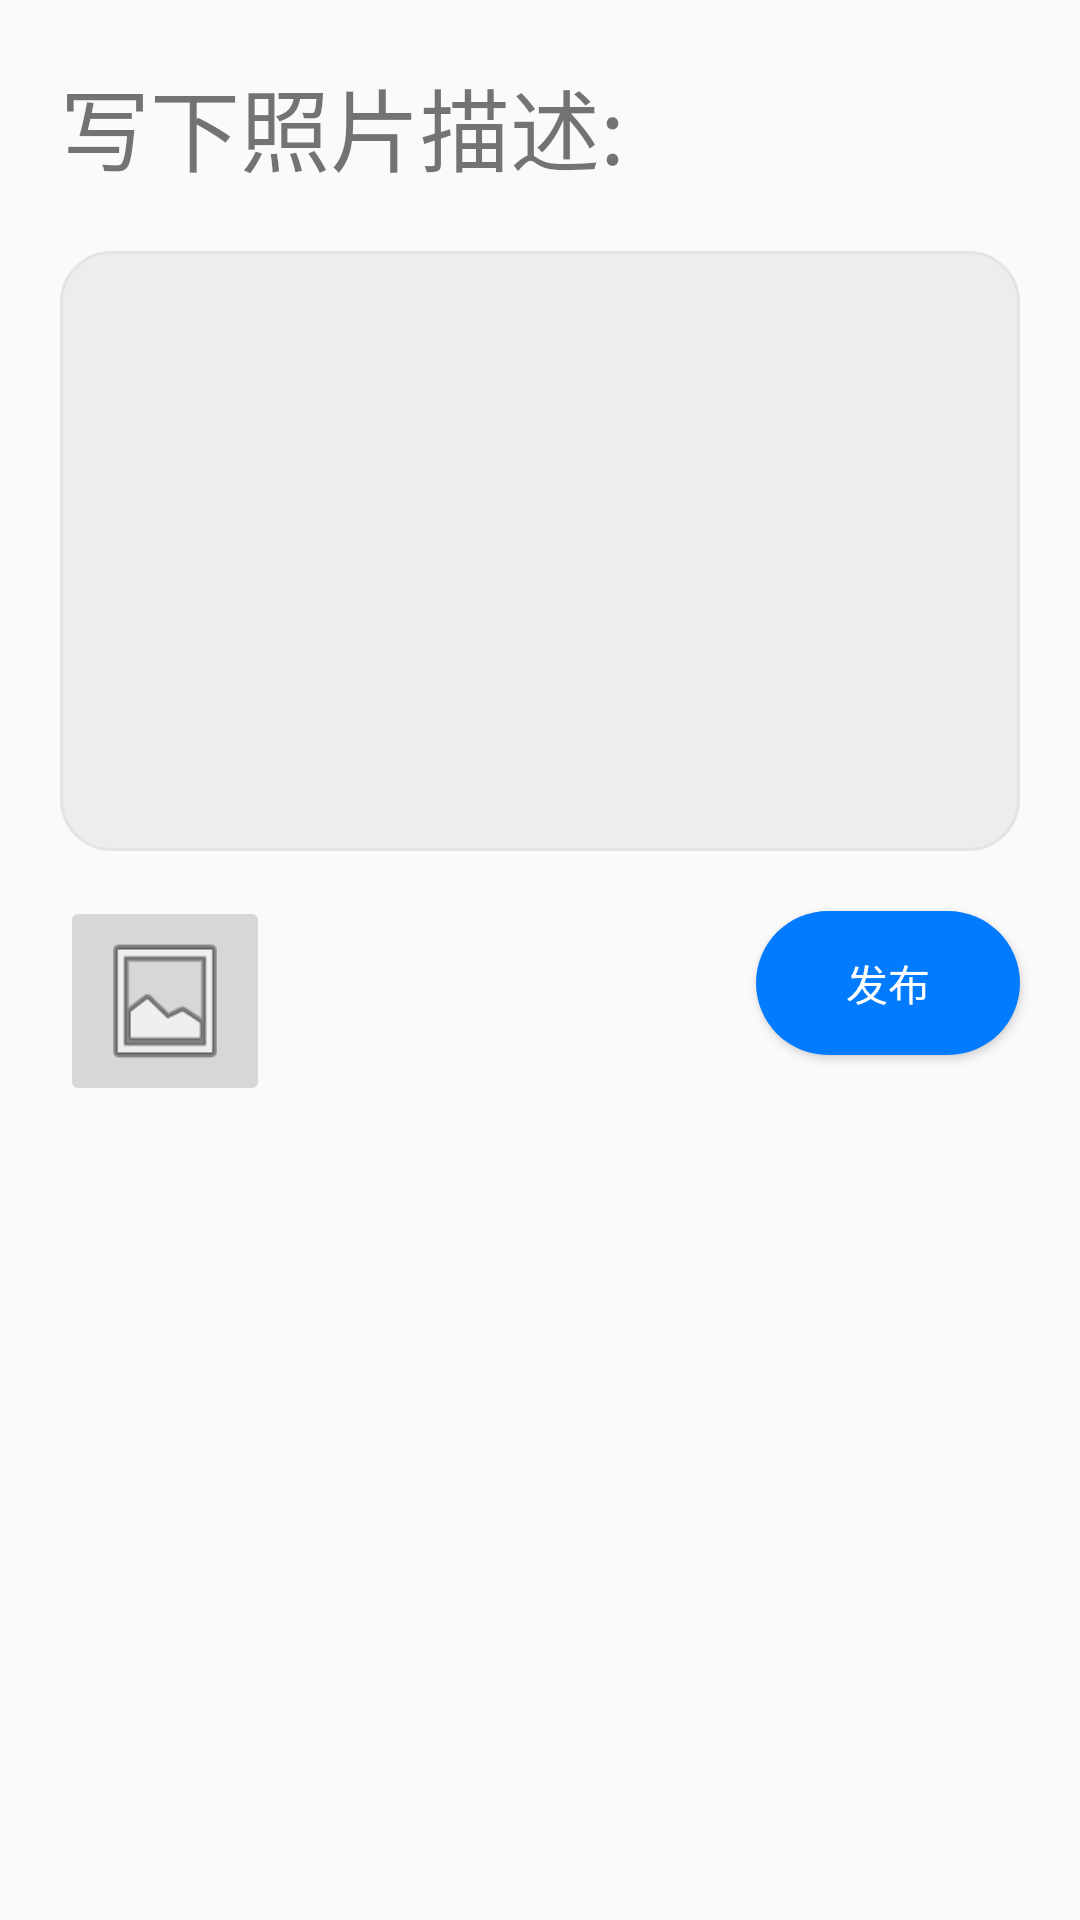

Screen size 1080x1920. Icon name, then its box in pixels as (x1, y1, x2, y2):
gallery: (72, 914, 258, 1088)
